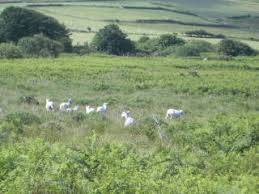sheep: (165, 108, 185, 120), (58, 97, 72, 113), (123, 110, 136, 127), (43, 99, 58, 112), (66, 103, 79, 115), (95, 103, 109, 113), (84, 105, 96, 115)
